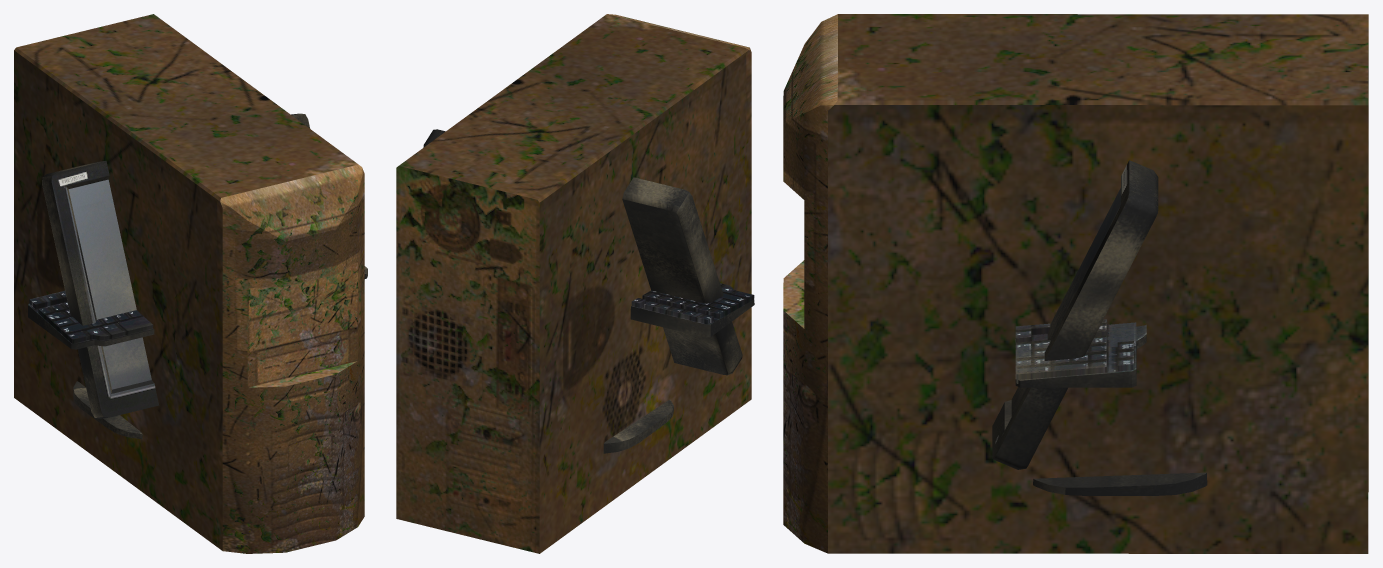
3 views of the same model, side by side, from view 1: azimuth 30°, elevation 25°; view 2: azimuth 150°, elevation 25°; view 3: azimuth 270°, elevation 25° (orthographic). The views are drawn at different scales.
Parts seen in each view (by area): view 1: pc, pc_screen, keyboard; view 2: pc, pc_screen, keyboard; view 3: pc, pc_screen, keyboard.
Boxes of the visible parts, x1,y1,x2,y2 form: pc: [14, 14, 364, 553]; pc_screen: [42, 113, 310, 439]; keyboard: [28, 266, 367, 349]; pc: [396, 14, 751, 553]; pc_screen: [423, 129, 742, 453]; keyboard: [630, 283, 754, 337]; pc: [783, 14, 1368, 553]; pc_screen: [992, 160, 1207, 495]; keyboard: [1015, 319, 1146, 387].
Bounding box in the file's own units: 0.3737 × 0.4214 × 0.4948.
